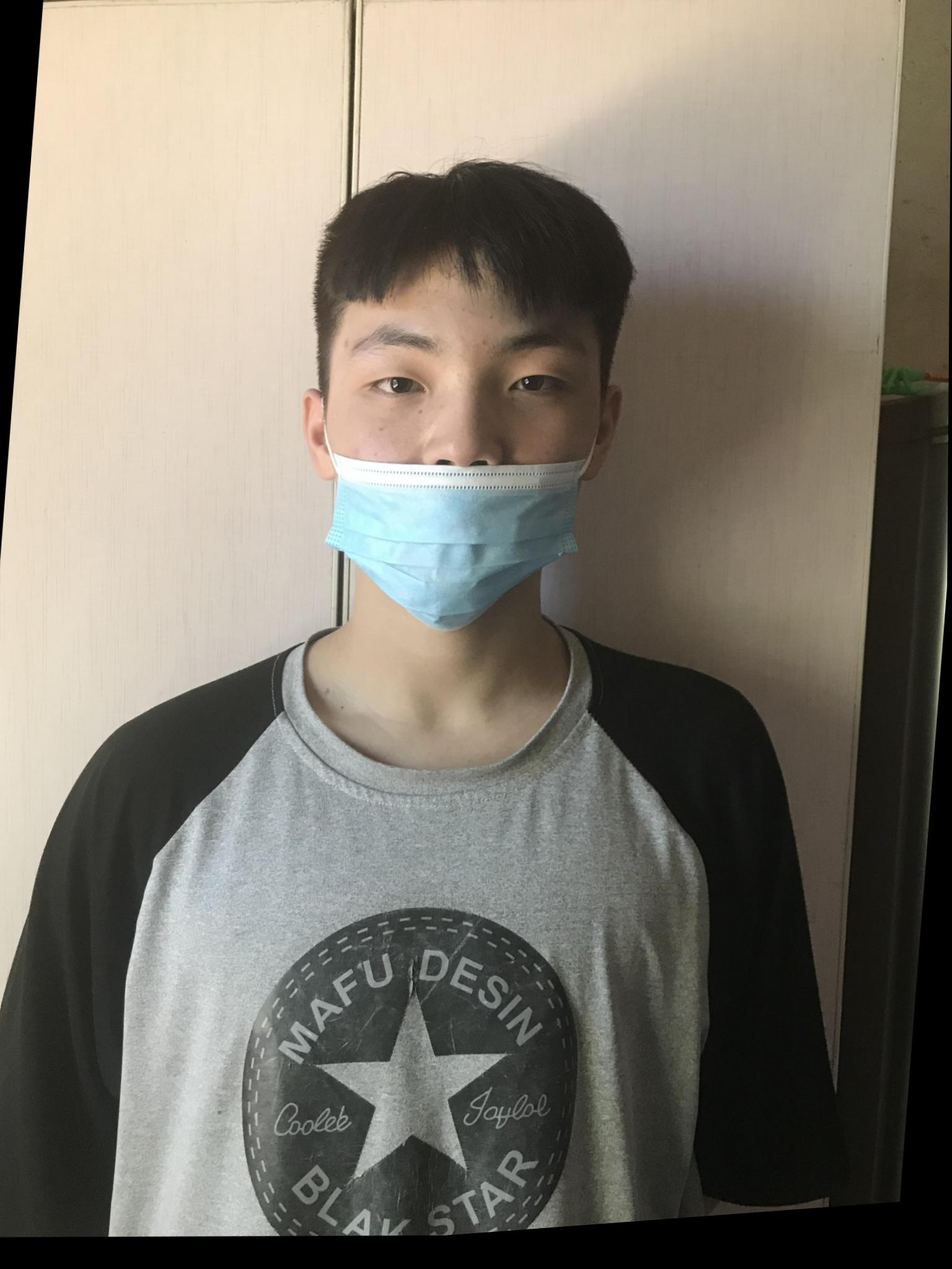WRONG: (312, 284, 611, 654)
